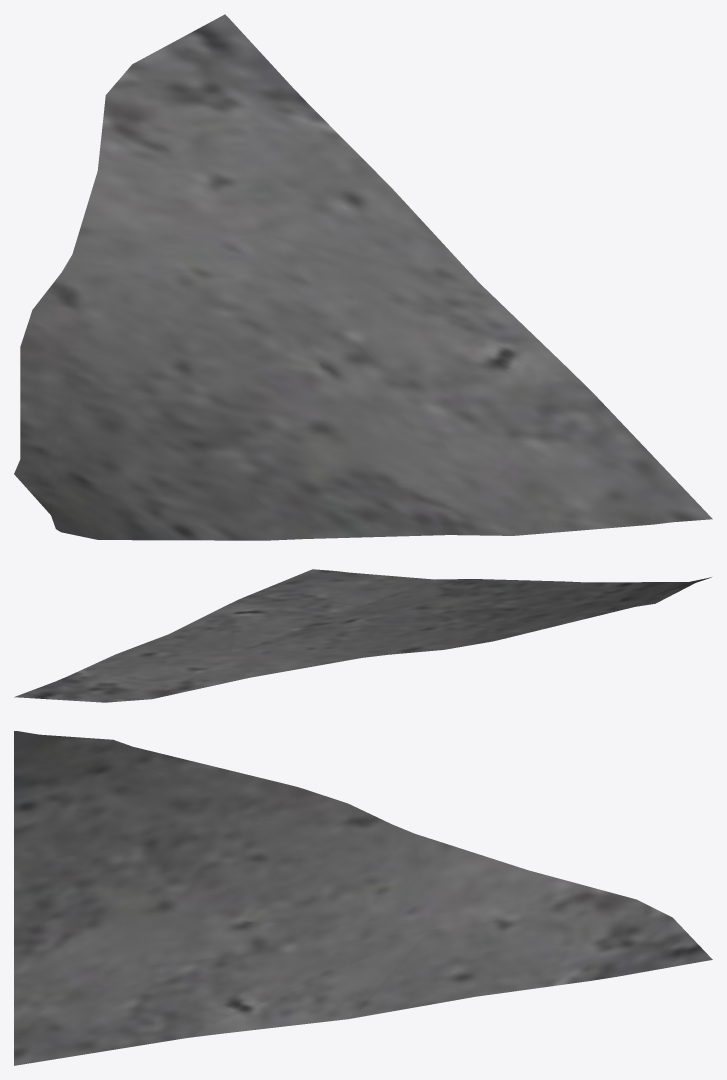
3 views of the same model, one above another, from view 1: azimuth 30°, elevation 25°; view 2: azimuth 150°, elevation 25°; view 3: azimuth 270°, elevation 25° (orthographic). The views are drawn at different scales.
Bounding box in the file's own units: 1.23 × 0.2653 × 1.59.
1 material, 1 textured.
